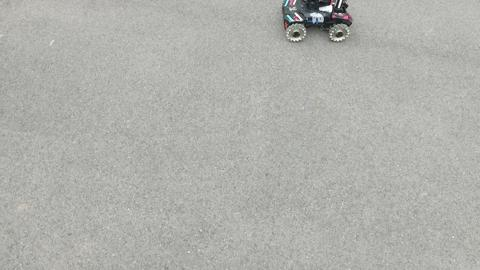chariot: (276, 1, 355, 50)
